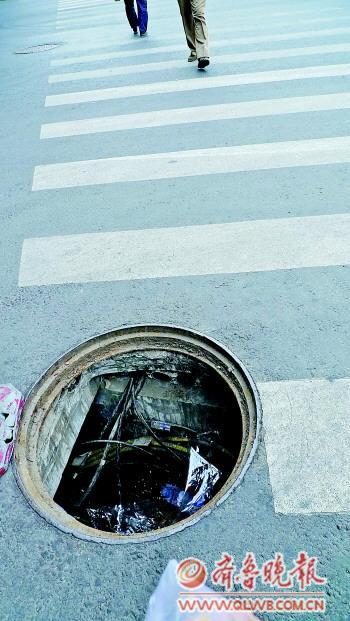lose: (17, 314, 266, 543)
